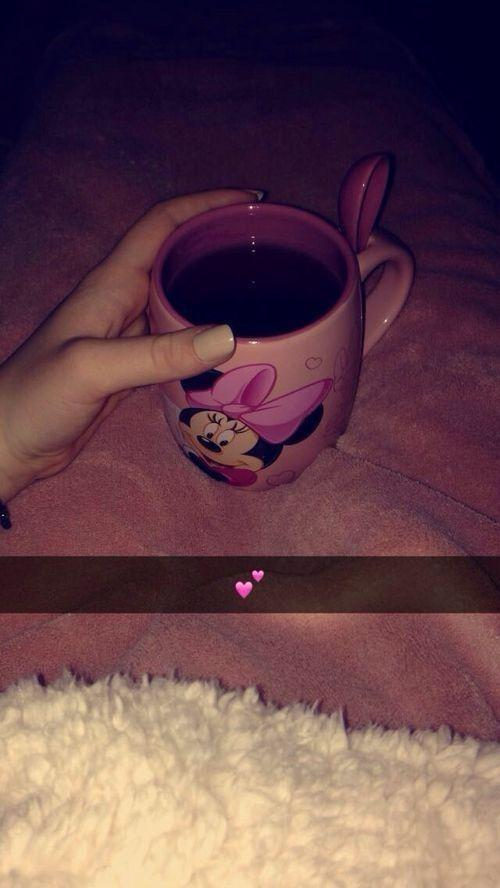cup-handle: (147, 195, 418, 493)
